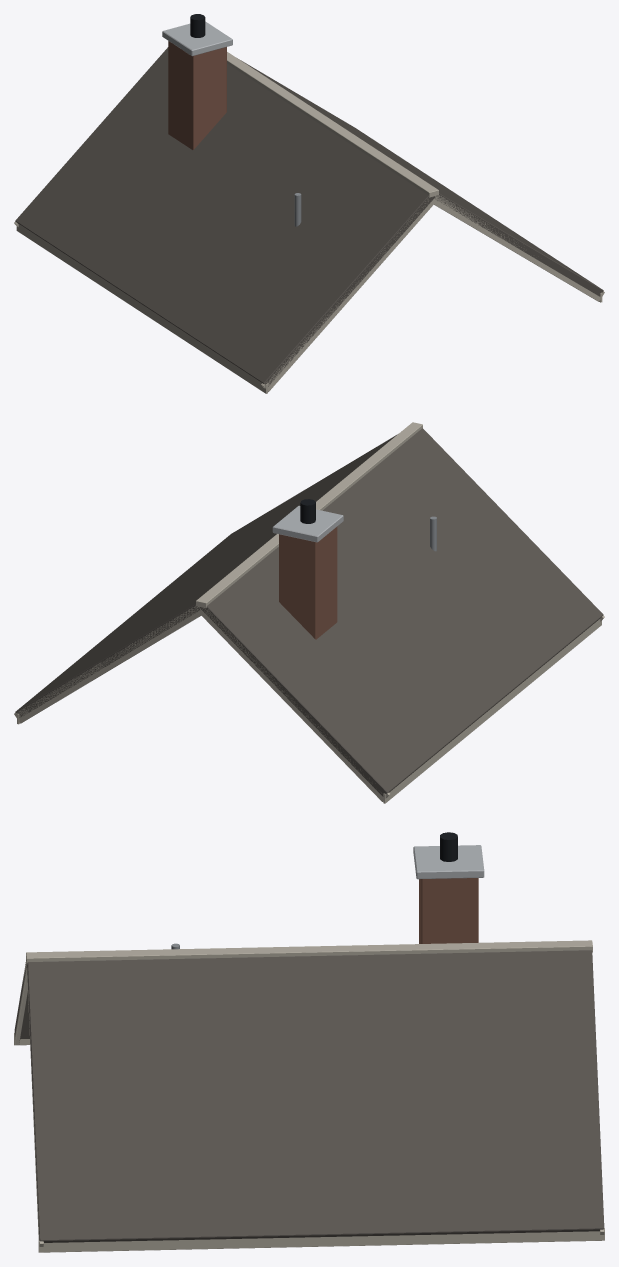
File: house0_roof.glb
The picture shows the model from 3 angles, top to bottom: view 1: azimuth 30°, elevation 25°; view 2: azimuth 150°, elevation 25°; view 3: azimuth 270°, elevation 25°; orthographic projection. The views are drawn at different scales.
Visible parts, largest first — view 1: house0_roof; view 2: house0_roof; view 3: house0_roof.
Boxes of the visible parts, x1,y1,x2,y2 form: house0_roof: (14,14,604,393); house0_roof: (14,422,604,803); house0_roof: (14,832,604,1252).
Size of the model in its own units: 7.41 by 4.21 by 8.25.
